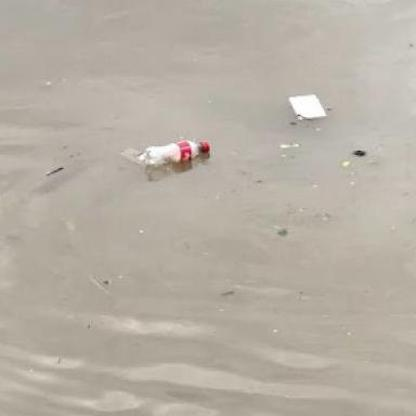foam: (290, 93, 326, 120)
plastic bottle: (145, 138, 211, 166)
